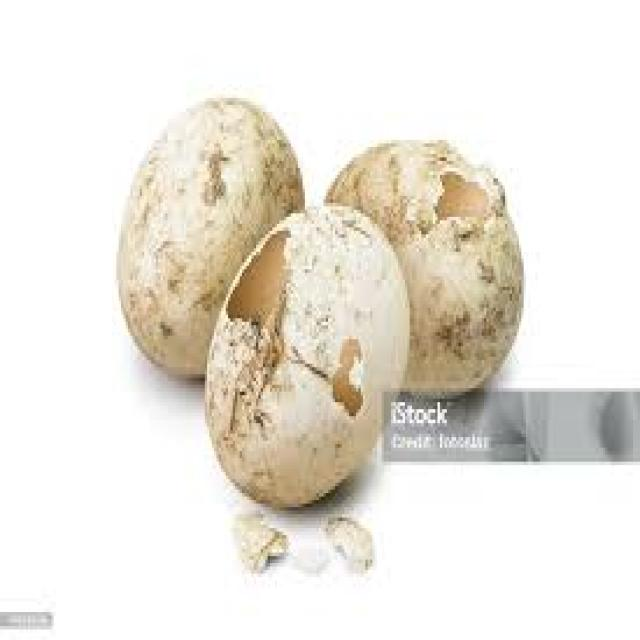Dirt Stained Egg: (194, 180, 423, 516), (334, 108, 537, 401), (108, 90, 312, 378)
